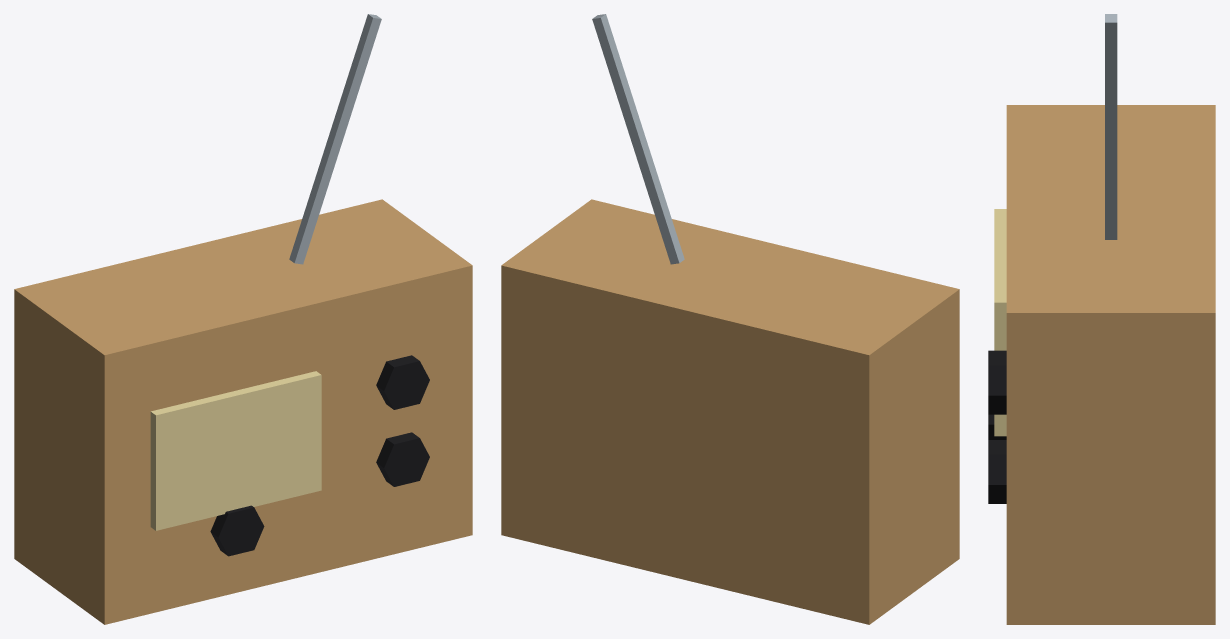
The model's file is GD_Radio_Retro_01.glb.
The picture shows the model from 3 angles, left to right: view 1: azimuth 30°, elevation 25°; view 2: azimuth 150°, elevation 25°; view 3: azimuth 270°, elevation 25°; orthographic projection. The views are drawn at different scales.
Parts seen in each view (by area): view 1: GD_Radio_Retro_01; view 2: GD_Radio_Retro_01; view 3: GD_Radio_Retro_01.
Part boxes in pixels (x1,y1,x2,y2): GD_Radio_Retro_01: (14,14,472,624); GD_Radio_Retro_01: (501,14,959,624); GD_Radio_Retro_01: (988,14,1215,624).
Bounding box in the file's own units: 0.4 × 0.5192 × 0.185.
1 material, 1 textured.
